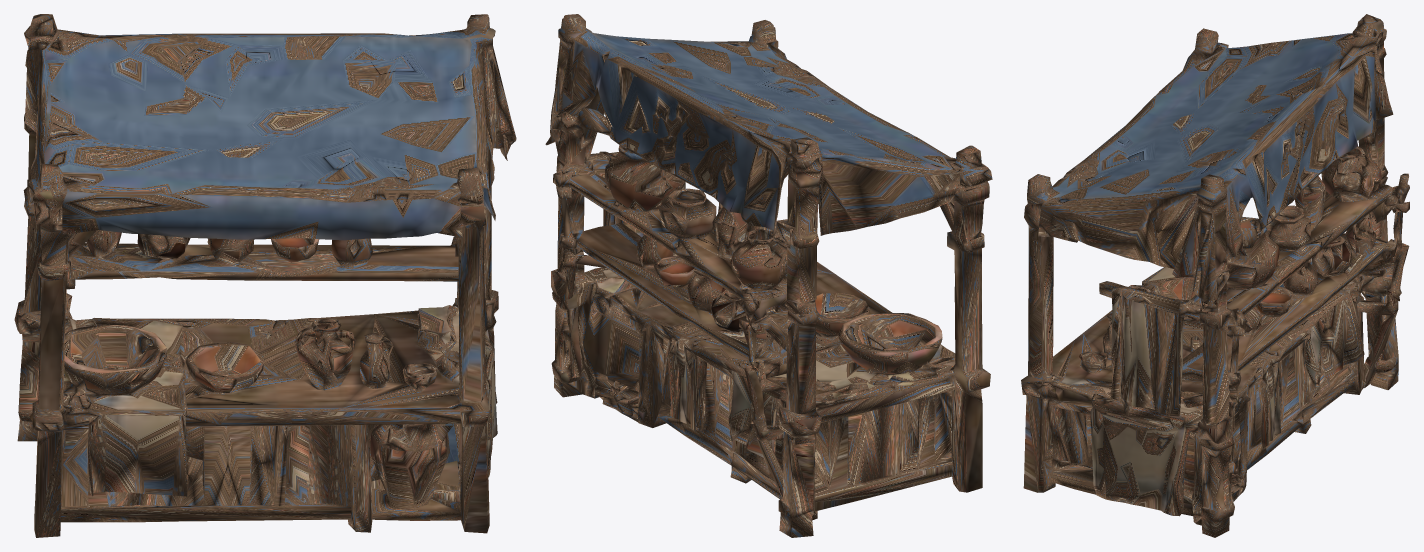
File: pottery-market-stall-pixal3d.glb
3 renders of one model, left to right at view 1: azimuth 30°, elevation 25°; view 2: azimuth 150°, elevation 25°; view 3: azimuth 270°, elevation 25°, orthographic. The views are drawn at different scales.
Visible parts, largest first — view 1: geometry_0; view 2: geometry_0; view 3: geometry_0.
Part boxes in pixels (x1=…): geometry_0: x1=14, y1=14, x2=516, y2=537; geometry_0: x1=545, y1=14, x2=992, y2=537; geometry_0: x1=1021, y1=14, x2=1409, y2=537.
Size of the model in its own units: 3.32 by 2.8 by 2.69.
Materials: 1 (1 with a texture image).
